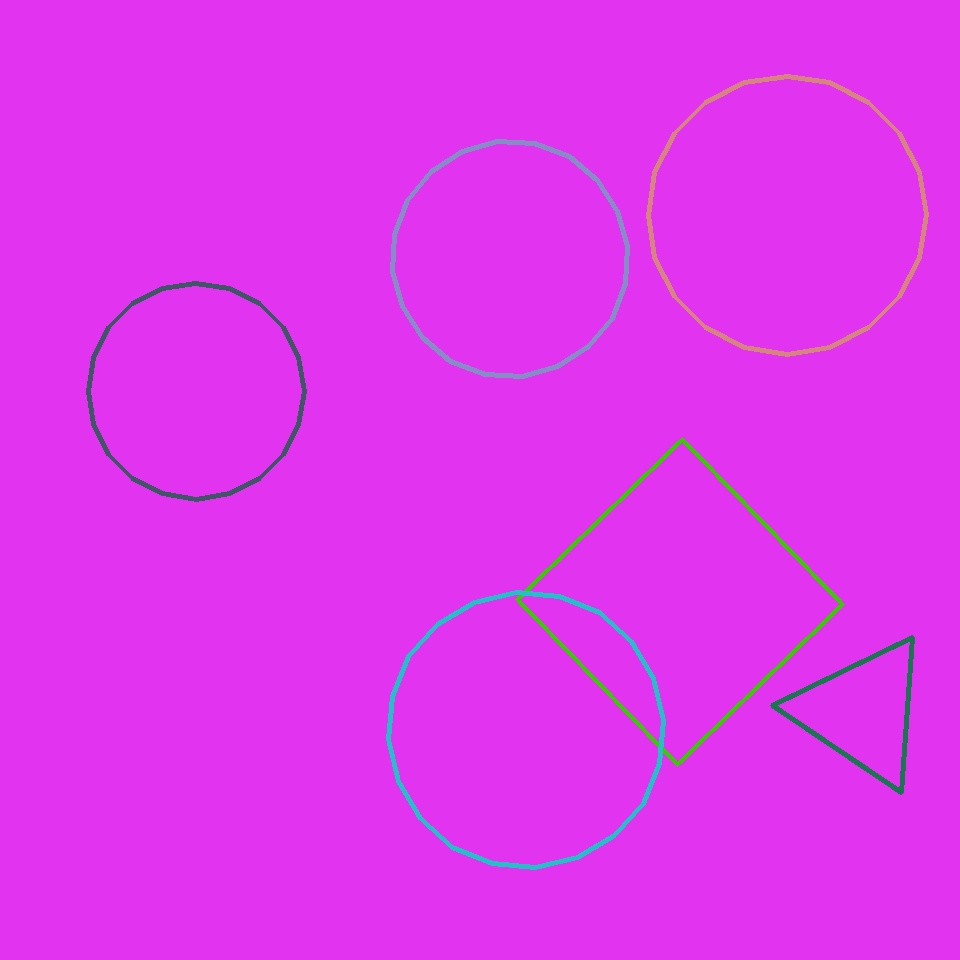circle: (792, 635, 932, 790)
square: (518, 439, 843, 764)
triangle: (648, 76, 926, 354), (389, 592, 664, 867), (392, 142, 628, 376), (88, 283, 304, 499)
